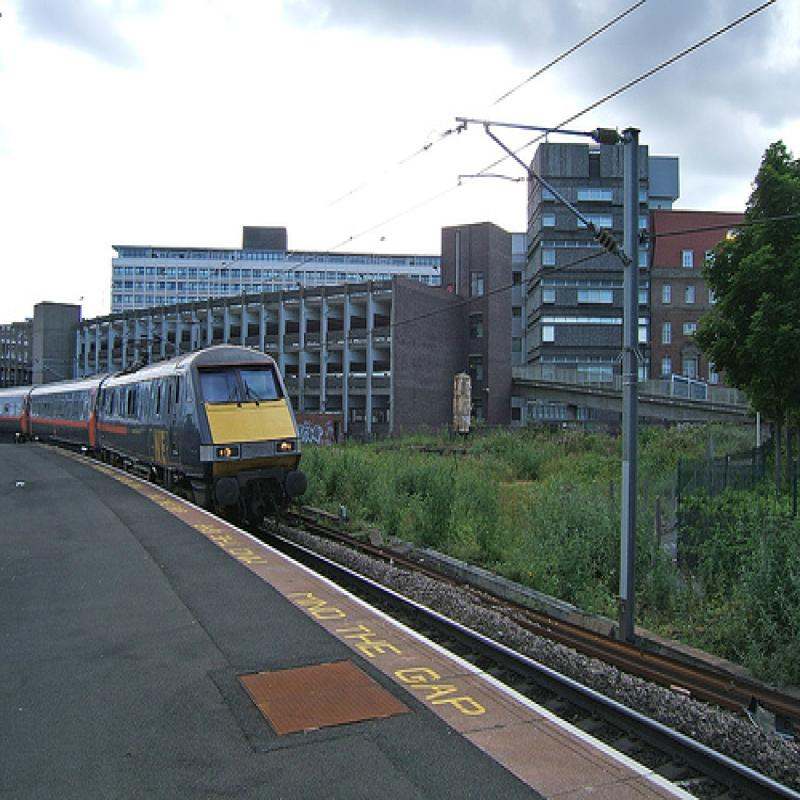train: (1, 340, 310, 515)
